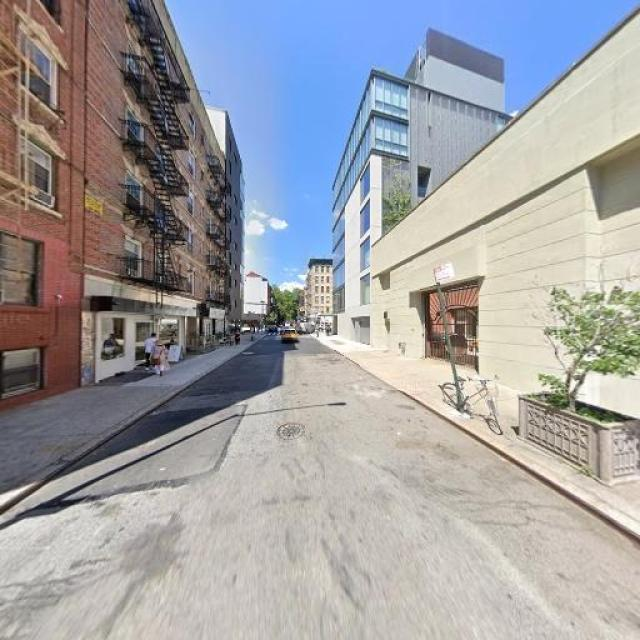Building: (372, 19, 640, 427), (84, 1, 223, 384), (1, 1, 78, 409), (333, 87, 369, 343), (227, 118, 242, 339)
